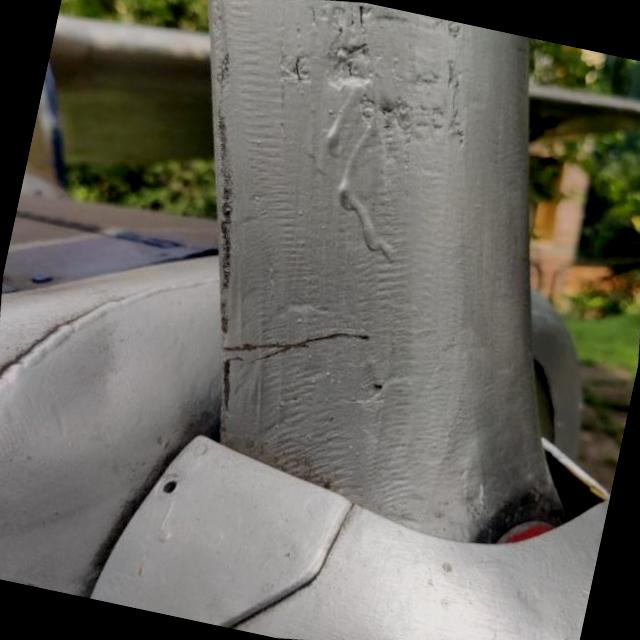Missing Fastener: (158, 472, 180, 494)
